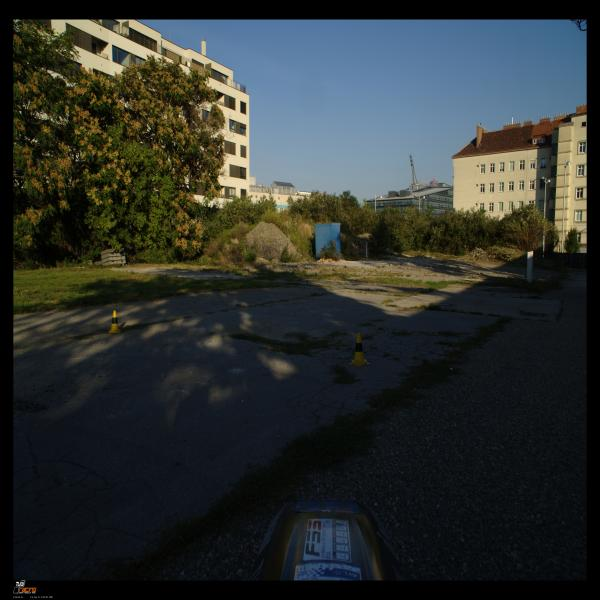yellow_cone: (349, 332, 370, 366), (108, 311, 121, 333)
